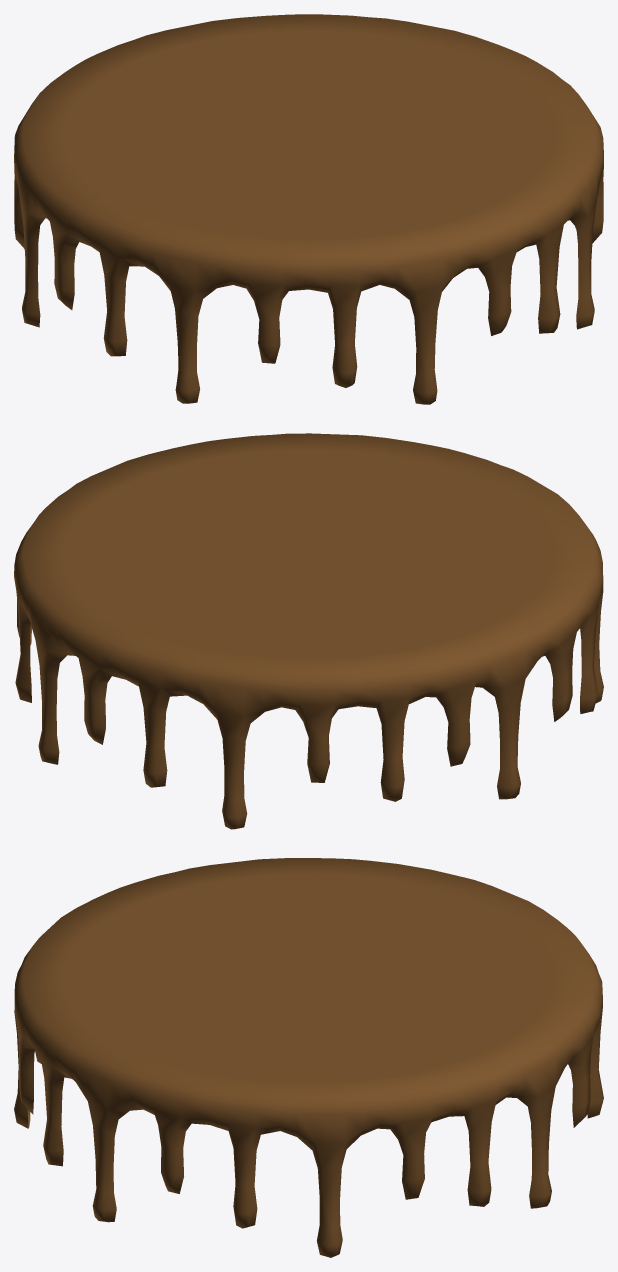
The model's file is Cake_Sml_itemsTop_icing-ShortDrops.FBX.
The picture shows the model from 3 angles, top to bottom: view 1: azimuth 30°, elevation 25°; view 2: azimuth 150°, elevation 25°; view 3: azimuth 270°, elevation 25°; orthographic projection.
Visible parts, largest first — view 1: Cake_Sml_itemsTop_icing-ShortDrops; view 2: Cake_Sml_itemsTop_icing-ShortDrops; view 3: Cake_Sml_itemsTop_icing-ShortDrops.
Boxes of the visible parts, bbox=[...] form: Cake_Sml_itemsTop_icing-ShortDrops: bbox=[14, 14, 603, 404]; Cake_Sml_itemsTop_icing-ShortDrops: bbox=[14, 433, 603, 829]; Cake_Sml_itemsTop_icing-ShortDrops: bbox=[14, 858, 603, 1257].
Bounding box in the file's own units: 4940 × 1487 × 4946.
